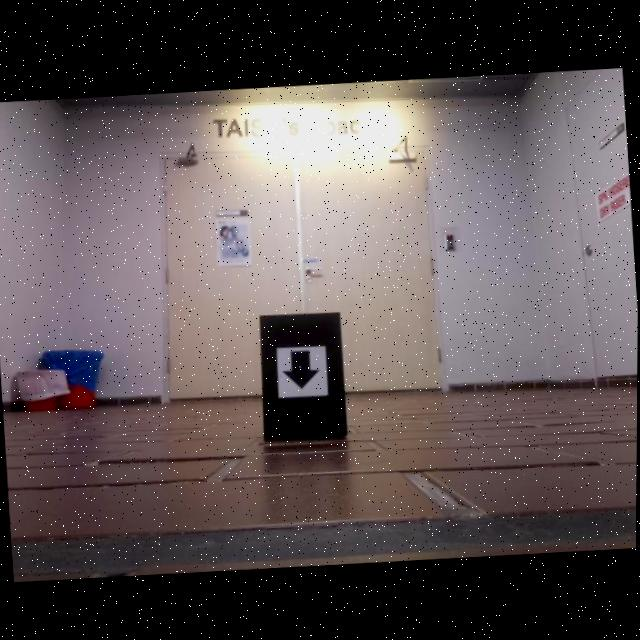DOWN: (281, 349, 321, 389)
